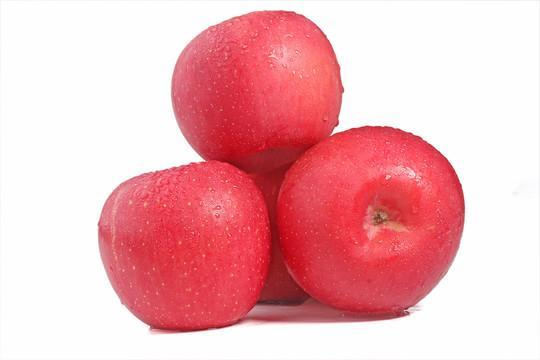apple: (275, 127, 467, 313), (97, 162, 269, 331), (167, 10, 340, 173)
